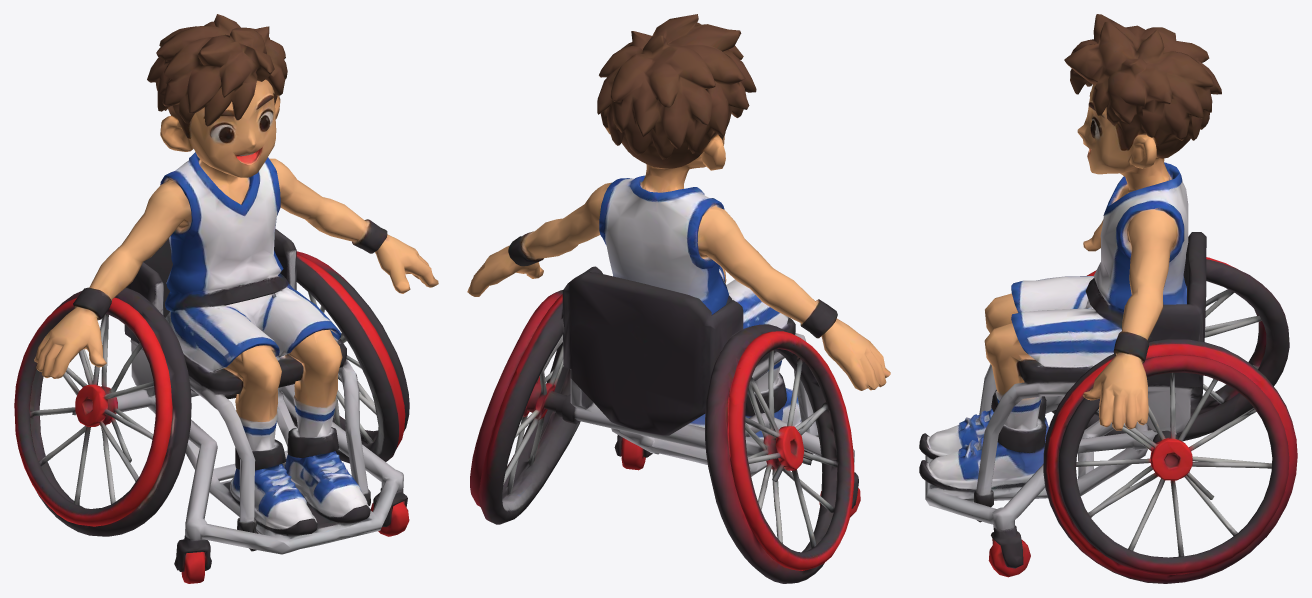
File: wheelchair.glb
3 renders of one model, left to right at view 1: azimuth 30°, elevation 25°; view 2: azimuth 150°, elevation 25°; view 3: azimuth 270°, elevation 25°, orthographic. The views are drawn at different scales.
Visible parts, largest first — view 1: tripo_node_7bc2a403-5aac-473c-aceb-6be182b652d3; view 2: tripo_node_7bc2a403-5aac-473c-aceb-6be182b652d3; view 3: tripo_node_7bc2a403-5aac-473c-aceb-6be182b652d3.
Boxes of the visible parts, x1,y1,x2,y2 form: tripo_node_7bc2a403-5aac-473c-aceb-6be182b652d3: [14, 14, 438, 583]; tripo_node_7bc2a403-5aac-473c-aceb-6be182b652d3: [467, 14, 890, 583]; tripo_node_7bc2a403-5aac-473c-aceb-6be182b652d3: [919, 14, 1297, 583].
Size of the model in its own units: 0.8298 by 1 by 0.6862.
1 material, 1 textured.
